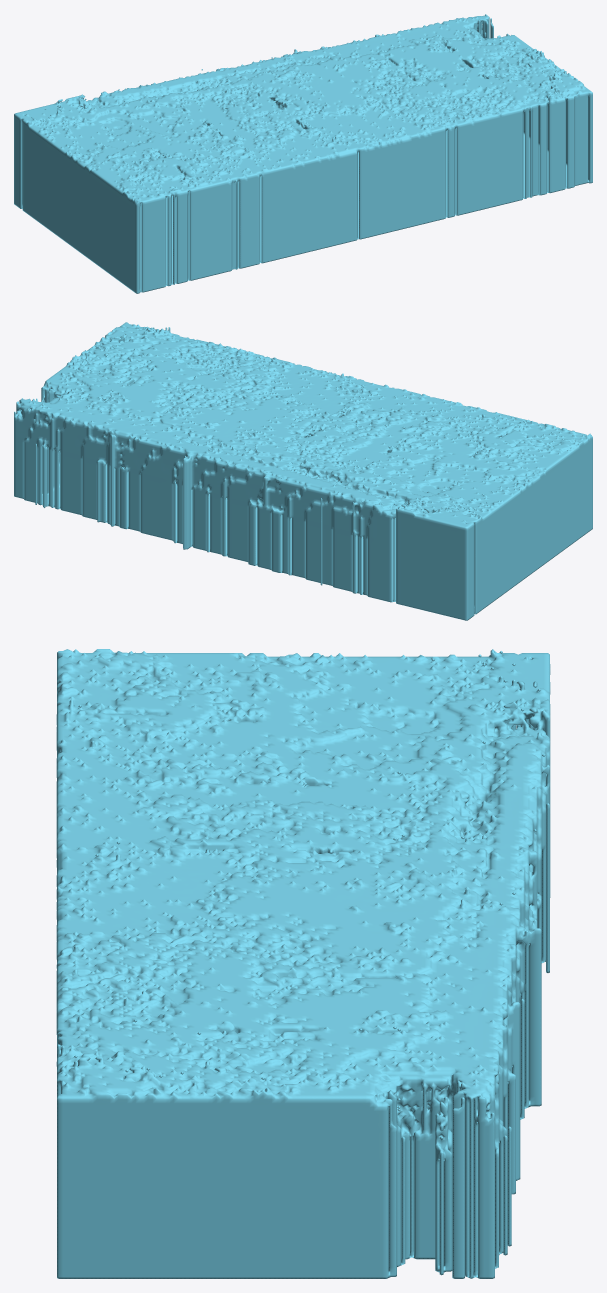
Rendered from southinside-collision.glb.
3 renders of one model, top to bottom at view 1: azimuth 30°, elevation 25°; view 2: azimuth 150°, elevation 25°; view 3: azimuth 270°, elevation 25°, orthographic. The views are drawn at different scales.
Parts seen in each view (by area): view 1: Collision mesh; view 2: Collision mesh; view 3: Collision mesh.
Part boxes in pixels (left/top/right/bottom): Collision mesh: left=14, top=14, right=592, bottom=293; Collision mesh: left=14, top=322, right=592, bottom=620; Collision mesh: left=56, top=649, right=550, bottom=1278.
Bounding box in the file's own units: 24.8 × 5 × 11.6.
